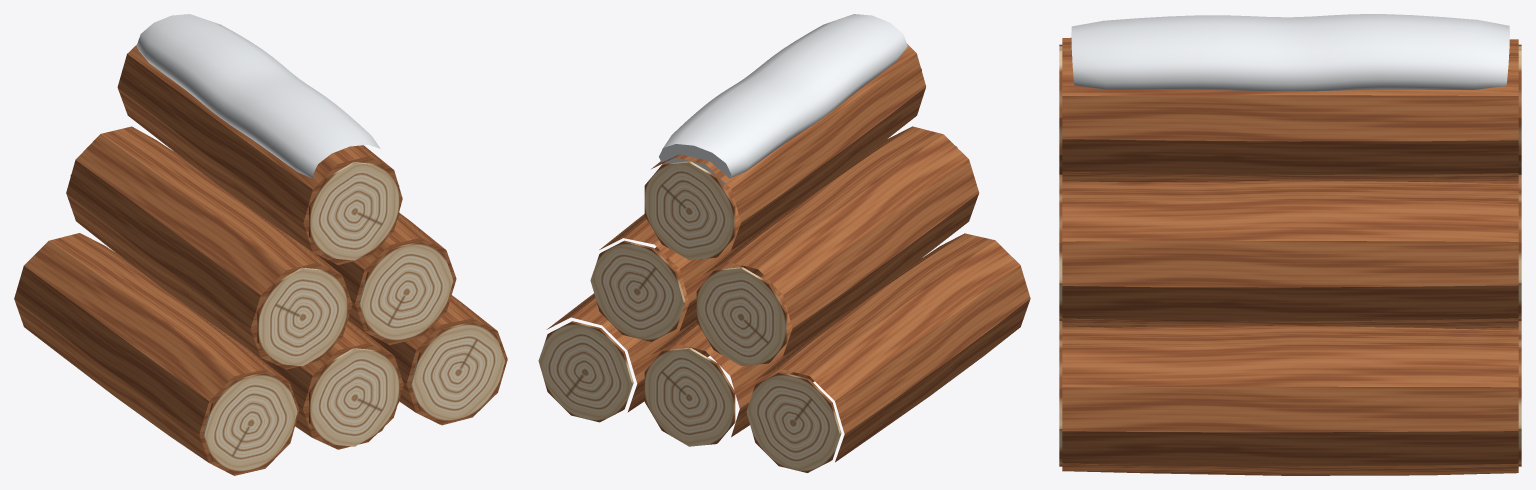
Rendered from SnowyLogPile.glb.
3 renders of one model, left to right at view 1: azimuth 30°, elevation 25°; view 2: azimuth 150°, elevation 25°; view 3: azimuth 270°, elevation 25°, orthographic. The views are drawn at different scales.
Parts seen in each view (by area): view 1: SnowyLogPile; view 2: SnowyLogPile; view 3: SnowyLogPile.
Part boxes in pixels (x1=…): SnowyLogPile: x1=14, y1=14, x2=507, y2=475; SnowyLogPile: x1=538, y1=14, x2=1030, y2=472; SnowyLogPile: x1=1059, y1=14, x2=1521, y2=475.
Bounding box in the file's own units: 6.32 × 6 × 6.59.
1 material, 1 textured.
